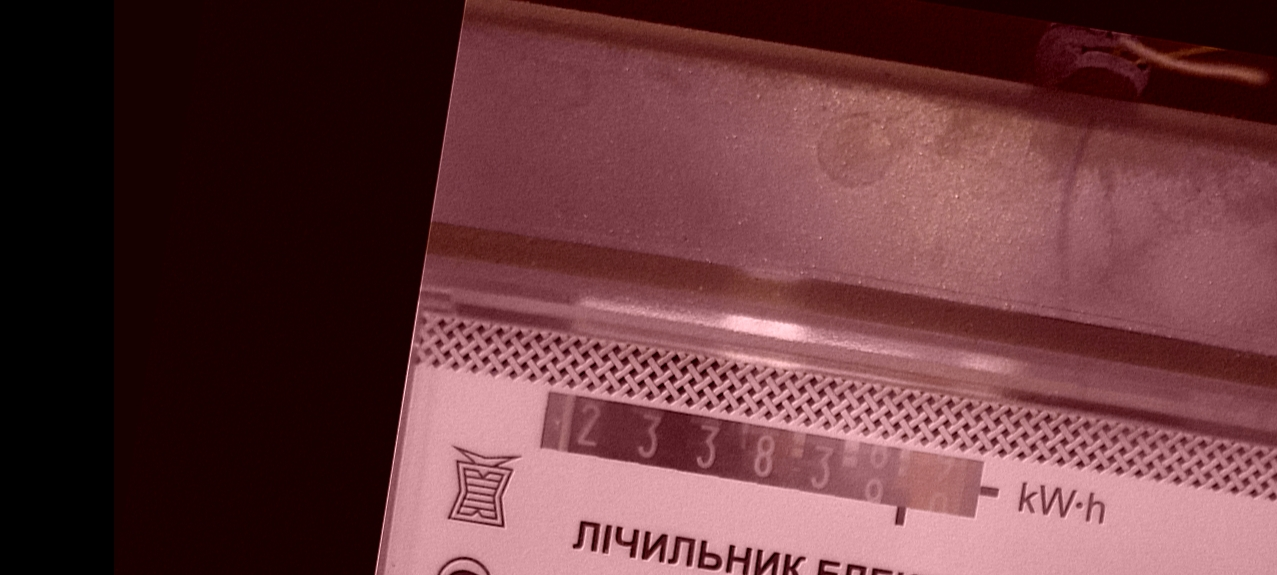0: (924, 487, 953, 515)
2: (571, 398, 606, 450)
3: (631, 409, 665, 462), (691, 420, 723, 474), (805, 440, 837, 492)
8: (748, 431, 779, 480), (863, 442, 895, 473)
9: (858, 473, 889, 506), (929, 452, 958, 484)
screen: (523, 378, 1003, 542)
